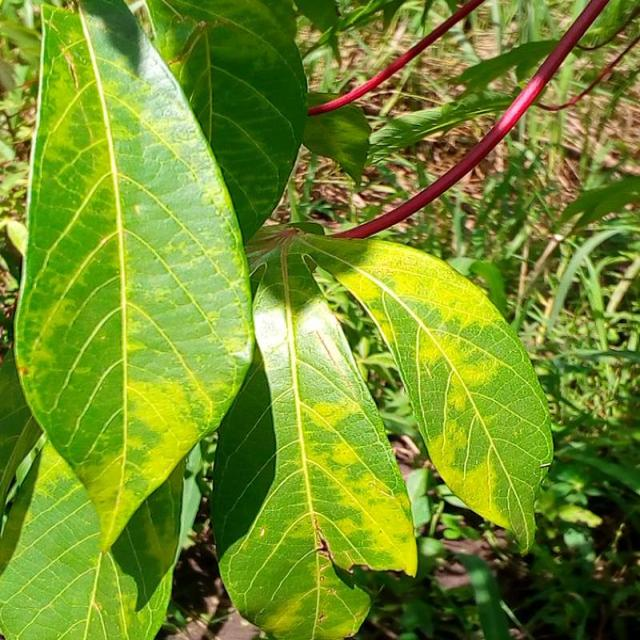cassava leaf: (12, 0, 256, 554), (289, 229, 554, 556), (210, 235, 418, 638), (135, 0, 308, 244), (0, 432, 186, 638)
